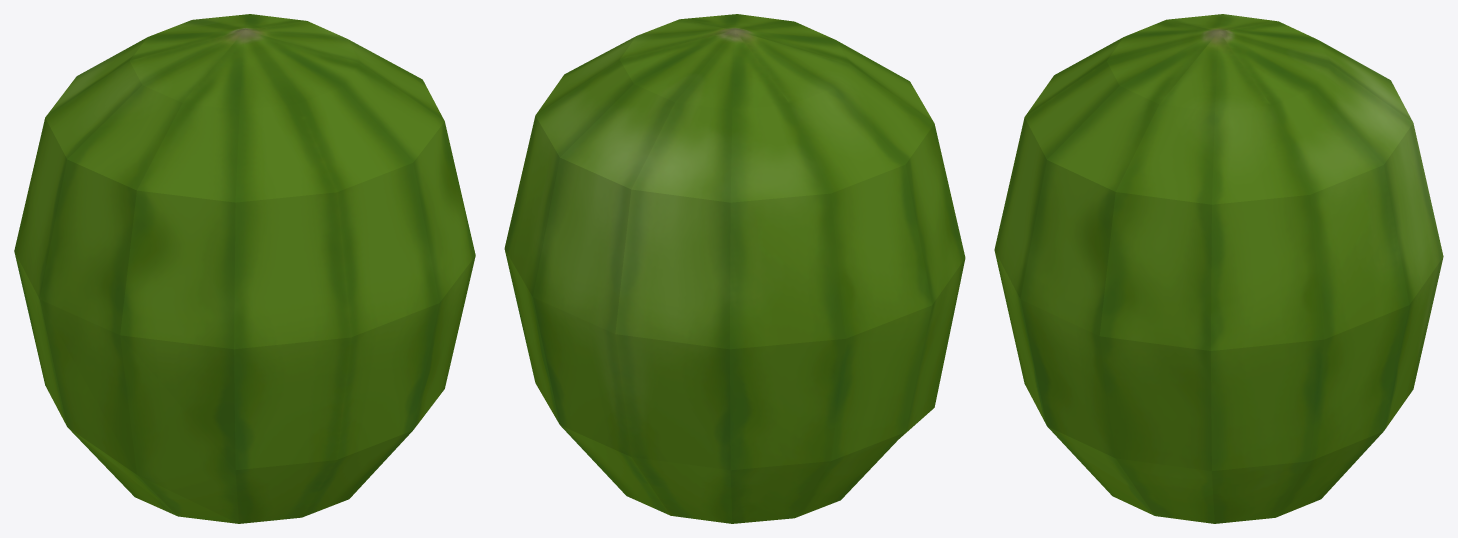
The model's file is melon.gltf.
3 renders of one model, left to right at view 1: azimuth 30°, elevation 25°; view 2: azimuth 150°, elevation 25°; view 3: azimuth 270°, elevation 25°, orthographic.
Parts seen in each view (by area): view 1: fruis_and_vegetables.009; view 2: fruis_and_vegetables.009; view 3: fruis_and_vegetables.009.
Part boxes in pixels (box(x1,y1,x2,y2)): fruis_and_vegetables.009: box(14, 14, 475, 523); fruis_and_vegetables.009: box(504, 14, 965, 523); fruis_and_vegetables.009: box(994, 14, 1443, 523).
Bounding box in the file's own units: 0.4128 × 0.4653 × 0.4007.
Materials: 1 (1 with a texture image).
